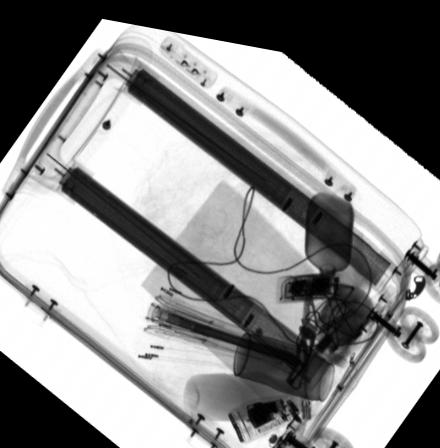Knife: (285, 271, 316, 378)
